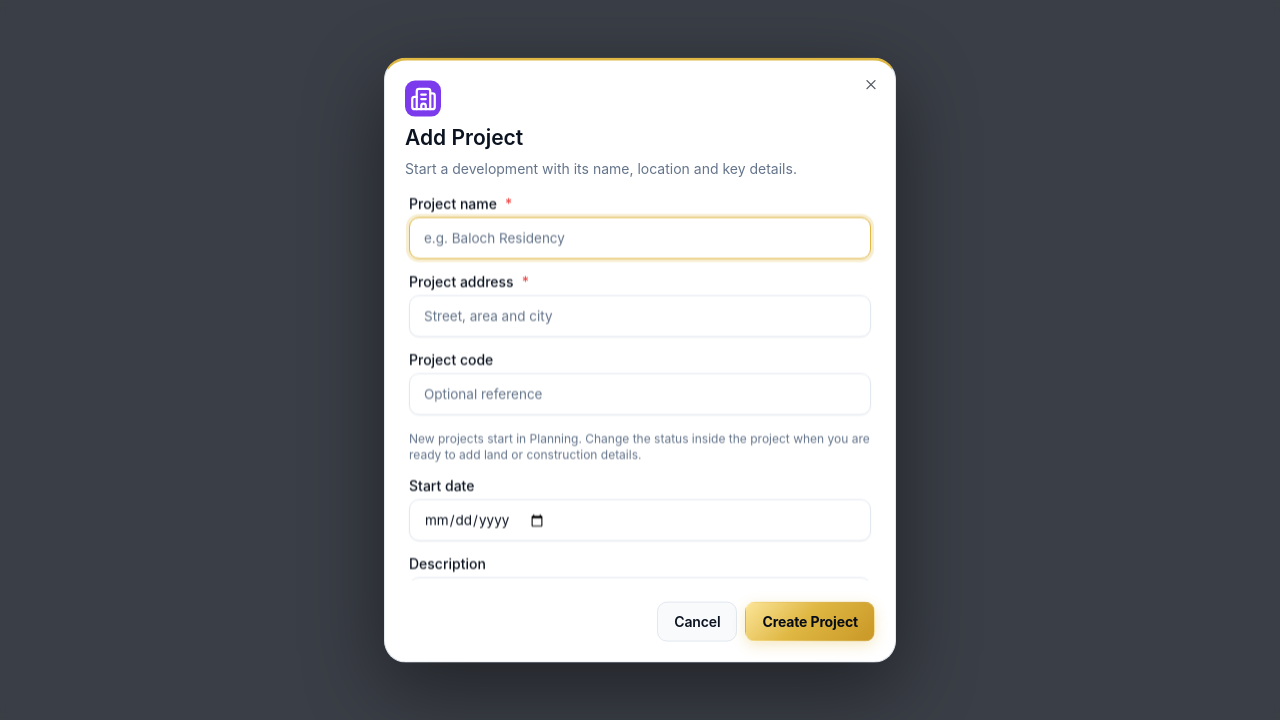
Test case: ProjectDialog › requires a project name and address
Click the button "Create Project": click(810, 621) [746, 601, 875, 641]
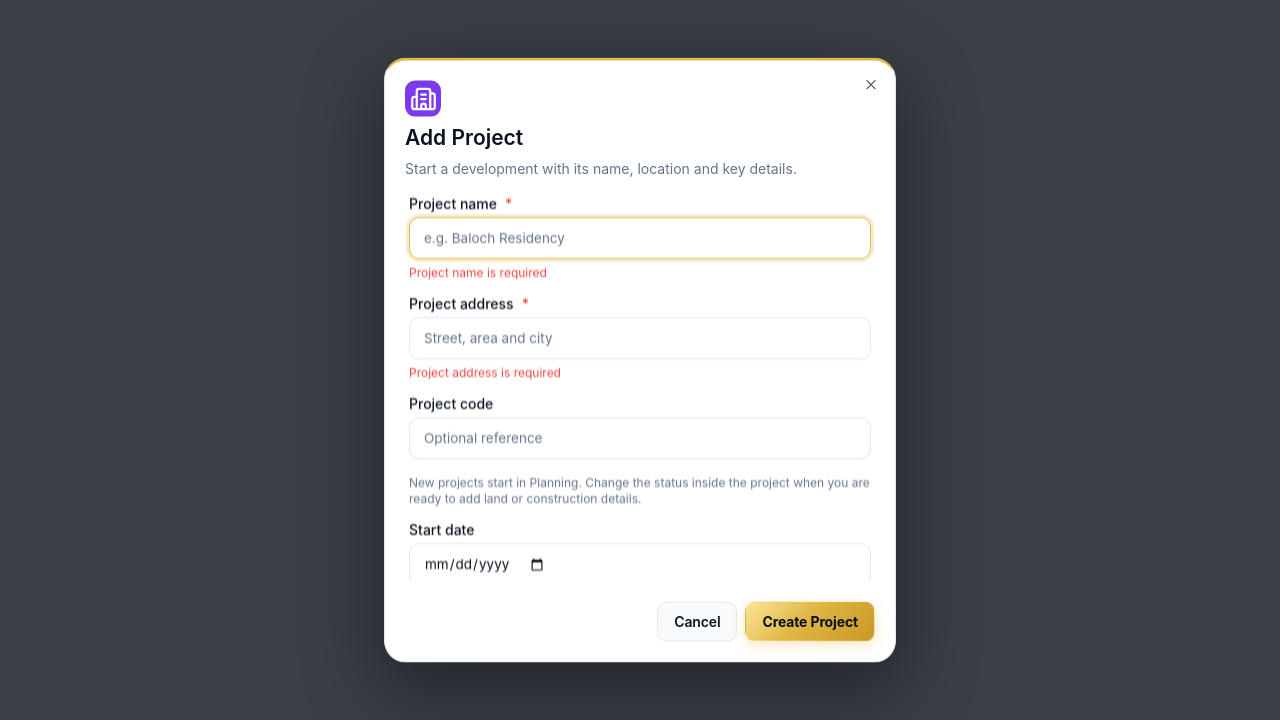
Expected: the text "Project name is required" is shown, [409, 265, 547, 280]
Expected: the text "Project address is required" is shown, [409, 365, 561, 380]
